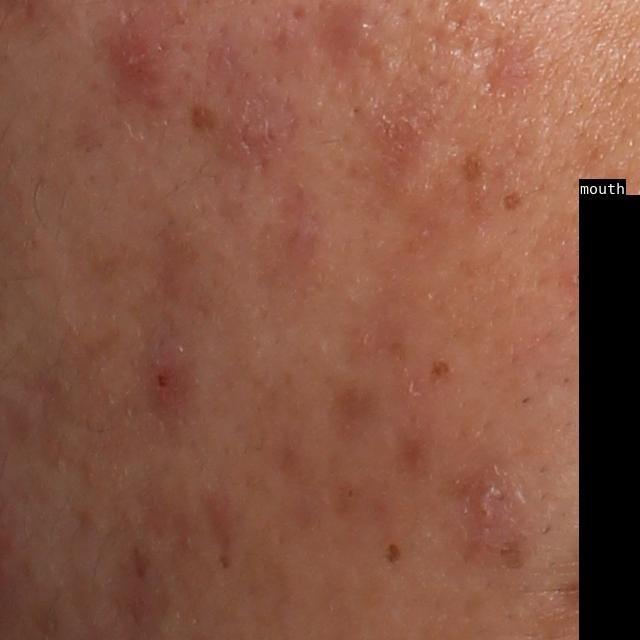papule: (452, 461, 528, 535), (101, 34, 160, 86), (142, 348, 184, 401)
